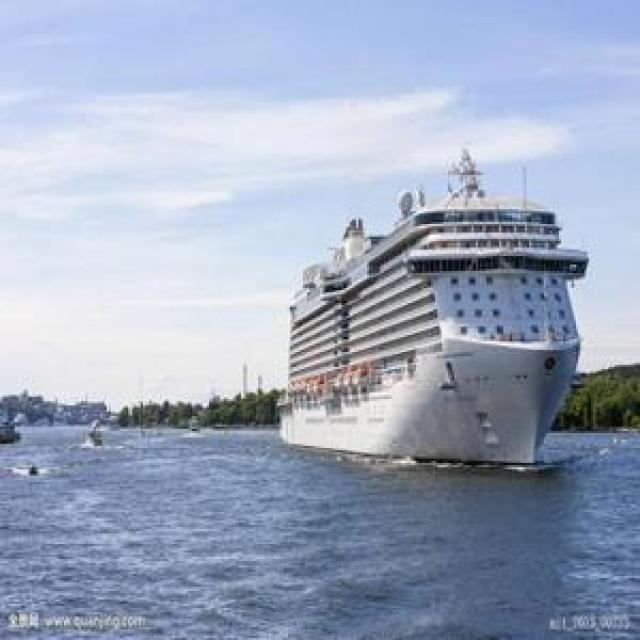passenger ship: (276, 159, 592, 466)
